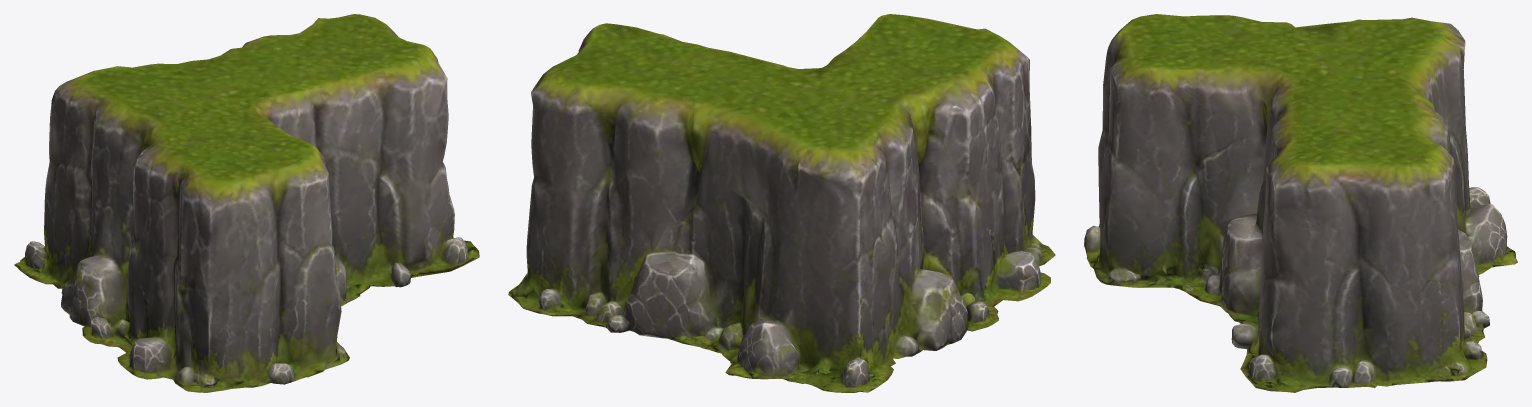
Rendered from plateau_b.glb.
3 views of the same model, side by side, from view 1: azimuth 30°, elevation 25°; view 2: azimuth 150°, elevation 25°; view 3: azimuth 270°, elevation 25° (orthographic). The views are drawn at different scales.
Bounding box in the file's own units: 1.88 × 0.9187 × 1.71.
Materials: 1 (1 with a texture image).
